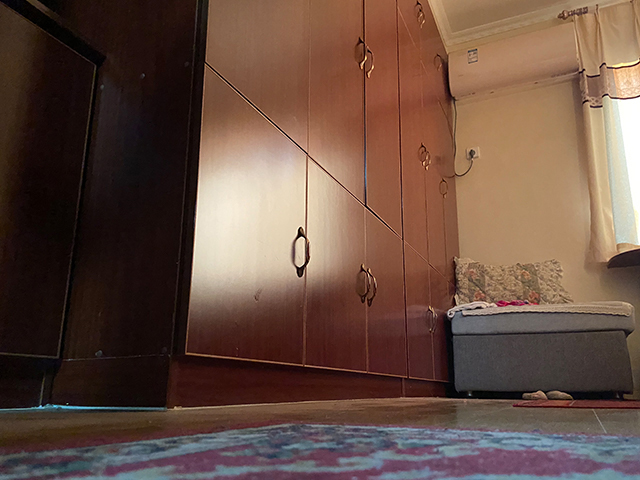cabinet: (171, 1, 459, 411)
carpet: (1, 421, 640, 479), (512, 396, 640, 411)
curtain: (570, 3, 640, 259)
stool: (447, 299, 636, 397)
